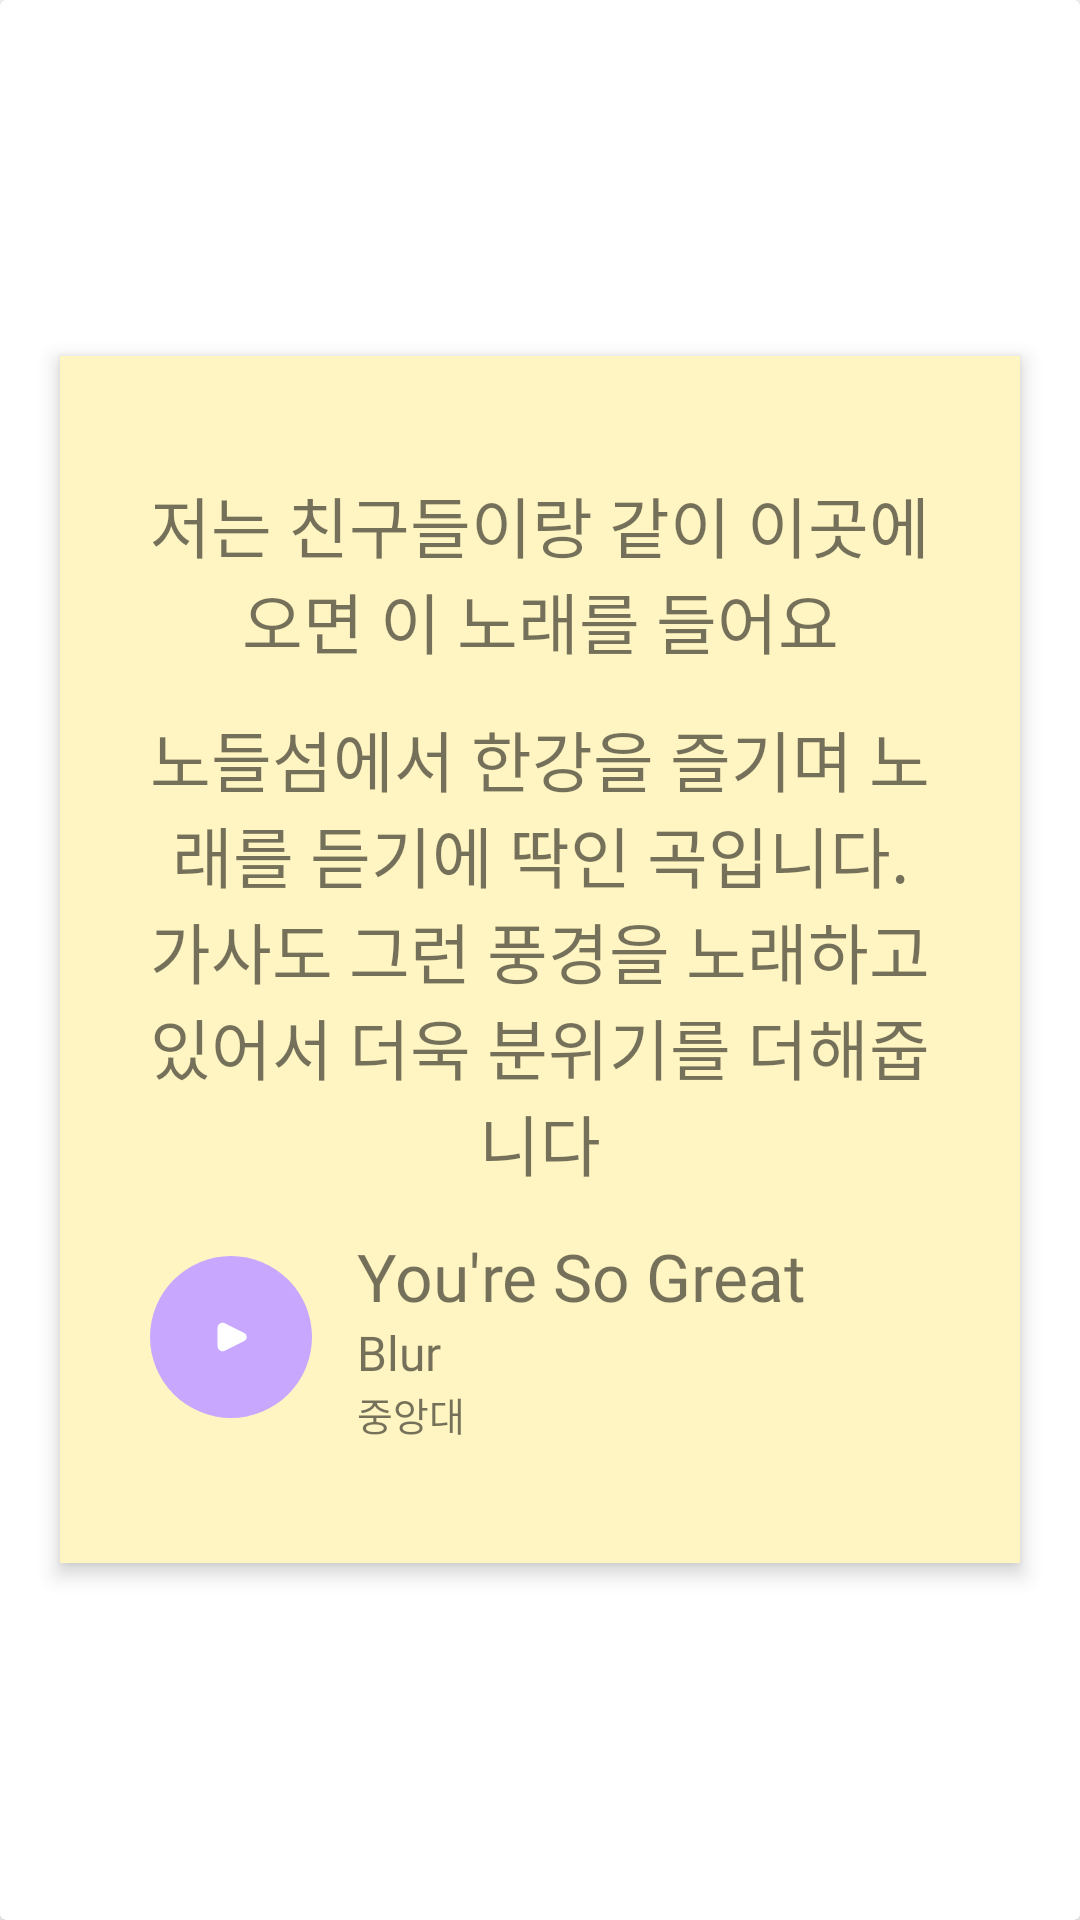

Icon bounding boxes for this 1080w x 1920h phone screenshot, format (x1, y1, x2, y2):
play: (150, 1256, 312, 1418)
